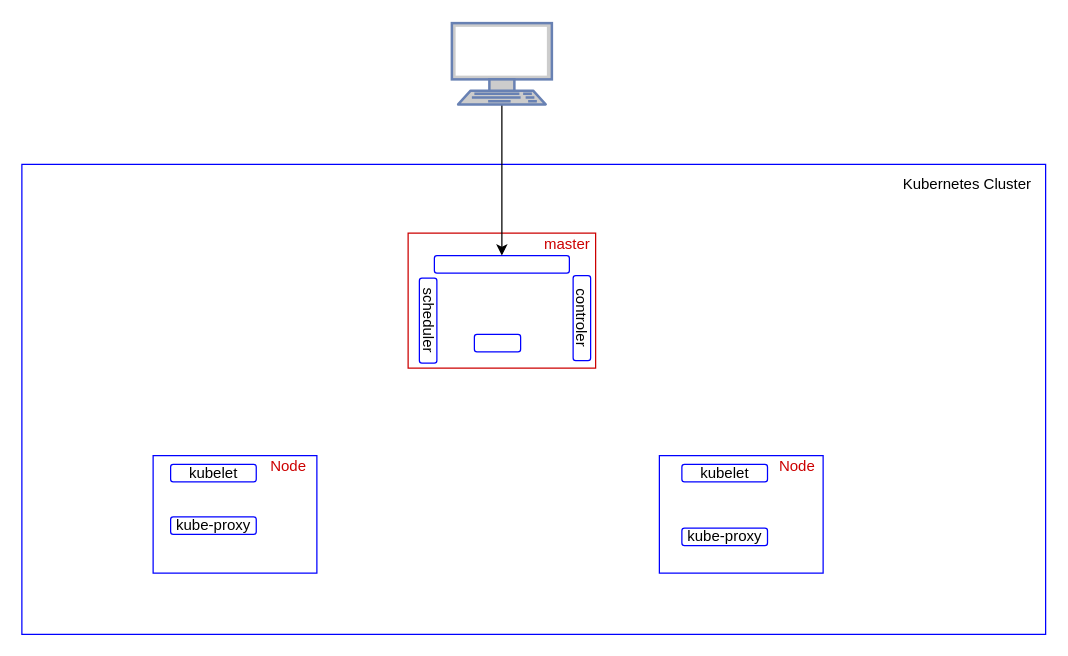
The diagram is 1068 pixels wide and 656 high, and some of its shapes have lost their labels. The centre of each missing label's shape, as x and y in pixels:
"api-server" goes at [501,263].
"etcd" goes at [497,342].
